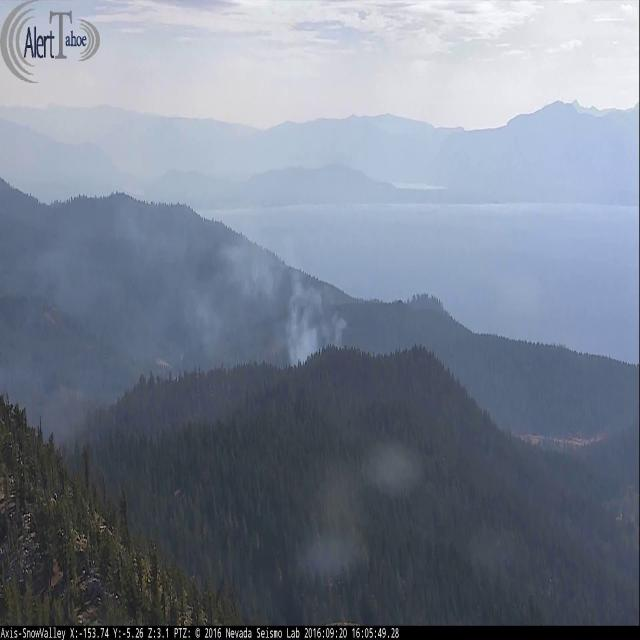smoke: (6, 197, 350, 438)
